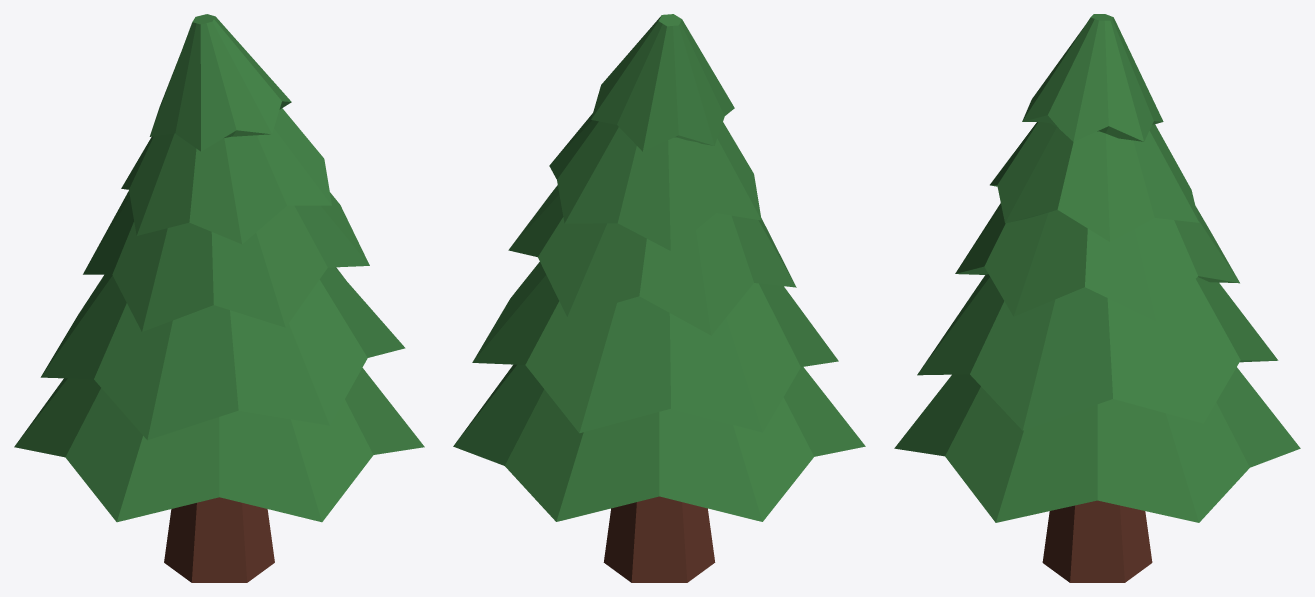
File: lowpolypine.obj
The picture shows the model from 3 angles, left to right: view 1: azimuth 30°, elevation 25°; view 2: azimuth 150°, elevation 25°; view 3: azimuth 270°, elevation 25°; orthographic projection.
Visible parts, largest first — view 1: pine_Cylinder; view 2: pine_Cylinder; view 3: pine_Cylinder.
Part boxes in pixels (left/top/right/bottom): pine_Cylinder: left=14, top=14, right=424, bottom=582; pine_Cylinder: left=453, top=14, right=865, bottom=582; pine_Cylinder: left=894, top=14, right=1300, bottom=582.
Bounding box in the file's own units: 3.87 × 6.55 × 4.47.
1 material, 1 textured.
